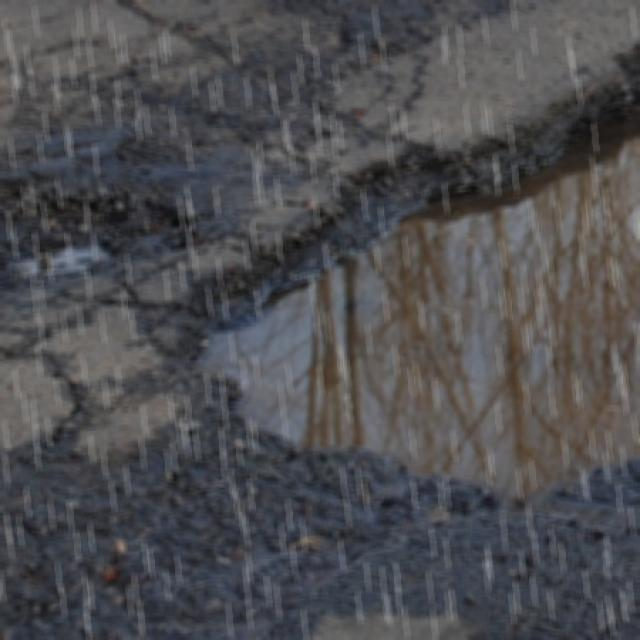road-pothole: (188, 43, 639, 508)
